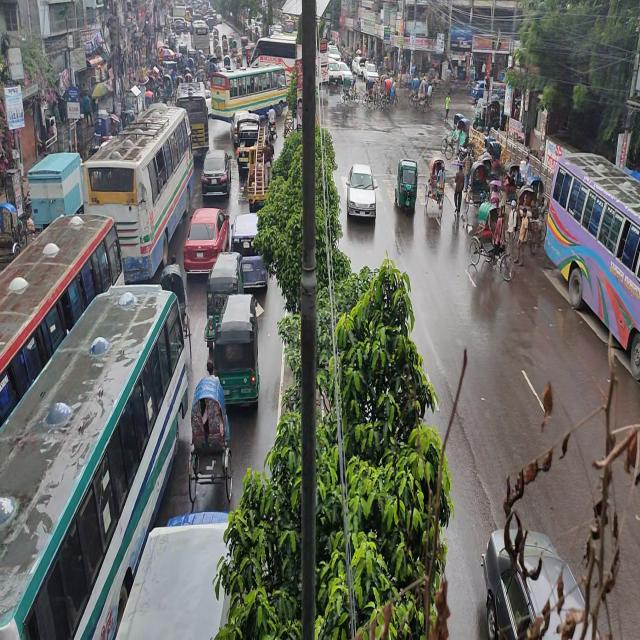black: (202, 147, 232, 198)
red: (183, 212, 228, 271)
